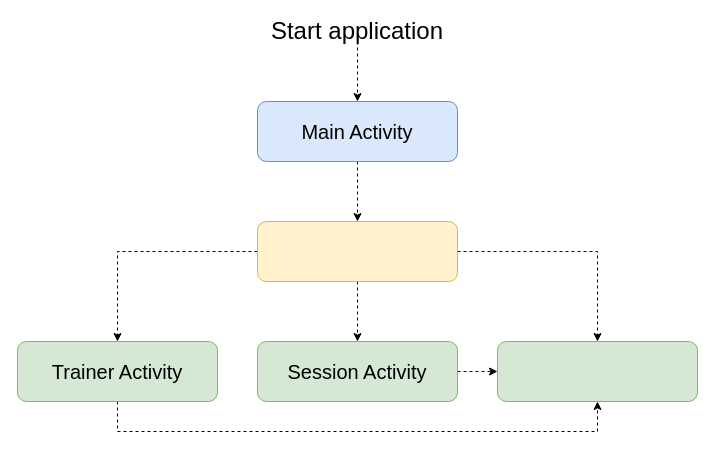
Some shapes in this 715 by 457 pixel diagram are drawn without their labels. Here are the shapes that lost their labels. From the top down, the centre of each, then its label:
At point 357,251: "Menu Activity".
At point 597,371: "Result Activity".
